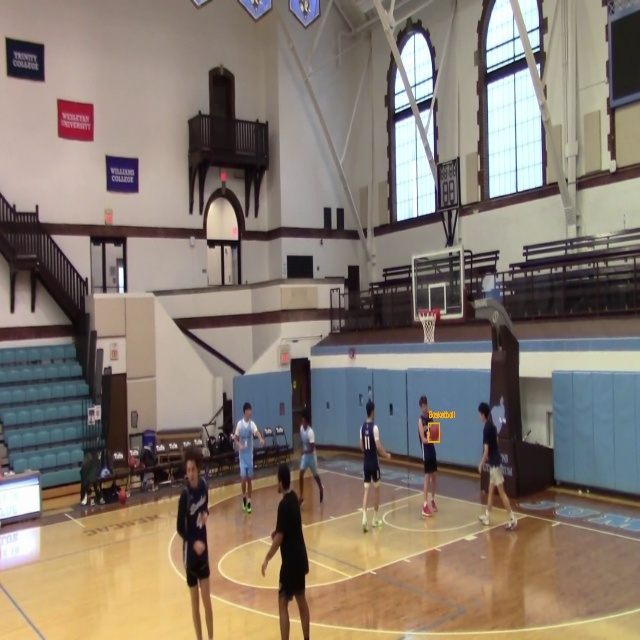Basketball: (429, 424, 440, 442)
